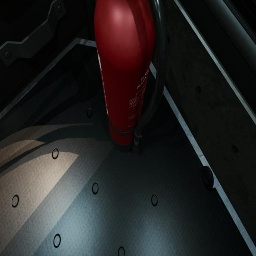FireExtinguisher ]: (94, 0, 168, 154)
